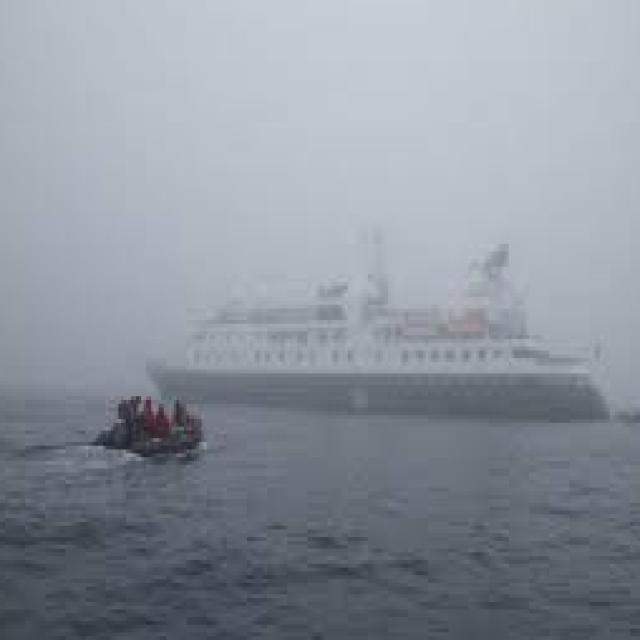passenger ship: (136, 262, 618, 425)
